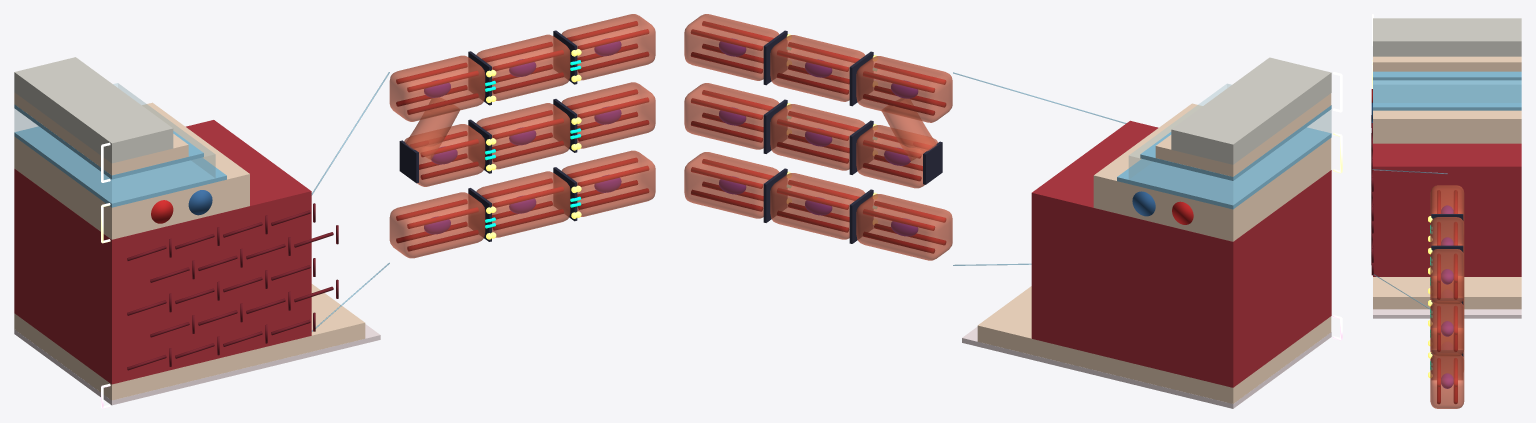
Rendered from heartwall.glb.
3 views of the same model, side by side, from view 1: azimuth 30°, elevation 25°; view 2: azimuth 150°, elevation 25°; view 3: azimuth 270°, elevation 25° (orthographic). The views are drawn at different scales.
Visible parts, largest first — view 1: cz-myocardium, cz-cells, cz-areolar, cz-myofibrils, cz-fibrous, cz-mesothelium, cz-discs, cz-cavity, cz-myocardium-lines, cz-nucleus, cz-endothelium, cz-desmosomes; view 2: cz-myocardium, cz-cells, cz-areolar, cz-myofibrils, cz-fibrous, cz-mesothelium, cz-discs, cz-cavity, cz-nucleus, cz-endothelium; view 3: cz-myocardium, cz-areolar, cz-cells, cz-mesothelium, cz-fibrous, cz-cavity, cz-discs, cz-myofibrils, cz-endothelium, cz-nucleus, cz-myocardium-lines, cz-desmosomes (+1 smaller).
Part boxes in pixels (left/top/right/bottom): cz-myocardium: left=14, top=120, right=311, bottom=384; cz-cells: left=389, top=14, right=655, bottom=258; cz-areolar: left=14, top=92, right=365, bottom=400; cz-myofibrils: left=396, top=21, right=649, bottom=251; cz-fibrous: left=14, top=57, right=173, bottom=163; cz-mesothelium: left=14, top=104, right=226, bottom=207; cz-discs: left=399, top=30, right=577, bottom=241; cz-cavity: left=14, top=83, right=215, bottom=202; cz-myocardium-lines: left=127, top=203, right=338, bottom=370; cz-nucleus: left=424, top=38, right=621, bottom=234; cz-endothelium: left=14, top=324, right=380, bottom=405; cz-desmosomes: left=486, top=49, right=581, bottom=239; cz-myocardium: left=1031, top=120, right=1331, bottom=387; cz-cells: left=684, top=14, right=952, bottom=260; cz-areolar: left=977, top=93, right=1331, bottom=403; cz-myofibrils: left=691, top=21, right=946, bottom=253; cz-fibrous: left=1171, top=57, right=1331, bottom=164; cz-mesothelium: left=1117, top=105, right=1331, bottom=209; cz-discs: left=763, top=30, right=942, bottom=243; cz-cavity: left=1129, top=84, right=1331, bottom=204; cz-nucleus: left=719, top=38, right=918, bottom=236; cz-endothelium: left=962, top=326, right=1331, bottom=408; cz-myocardium: left=1373, top=143, right=1521, bottom=276; cz-areolar: left=1373, top=56, right=1521, bottom=309; cz-cells: left=1430, top=185, right=1464, bottom=408; cz-mesothelium: left=1373, top=71, right=1521, bottom=110; cz-fibrous: left=1373, top=18, right=1521, bottom=56; cz-cavity: left=1373, top=80, right=1521, bottom=102; cz-discs: left=1431, top=214, right=1463, bottom=379; cz-myofibrils: left=1437, top=190, right=1457, bottom=403; cz-endothelium: left=1373, top=309, right=1521, bottom=318; cz-nucleus: left=1441, top=205, right=1453, bottom=388; cz-myocardium-lines: left=1371, top=115, right=1373, bottom=275; cz-desmosomes: left=1428, top=216, right=1432, bottom=378.
Size of the model in its own units: 15.52 by 6.58 by 4.45.
